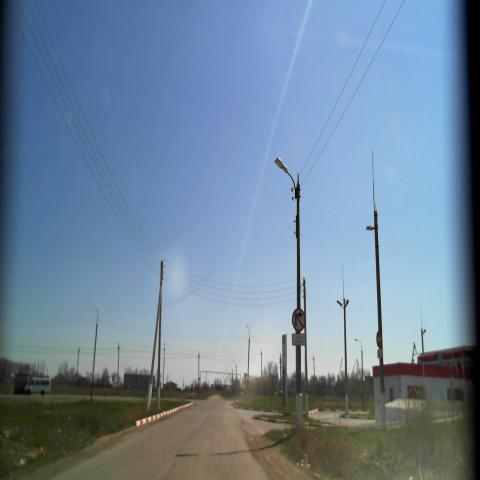3_18: (292, 308, 306, 334)
